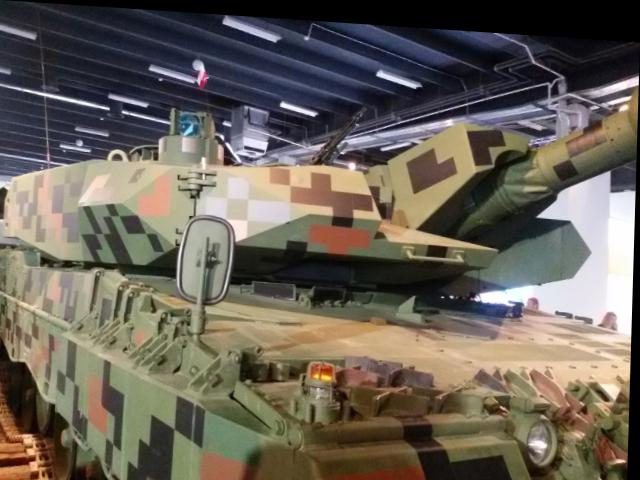tank: (0, 121, 635, 480)
